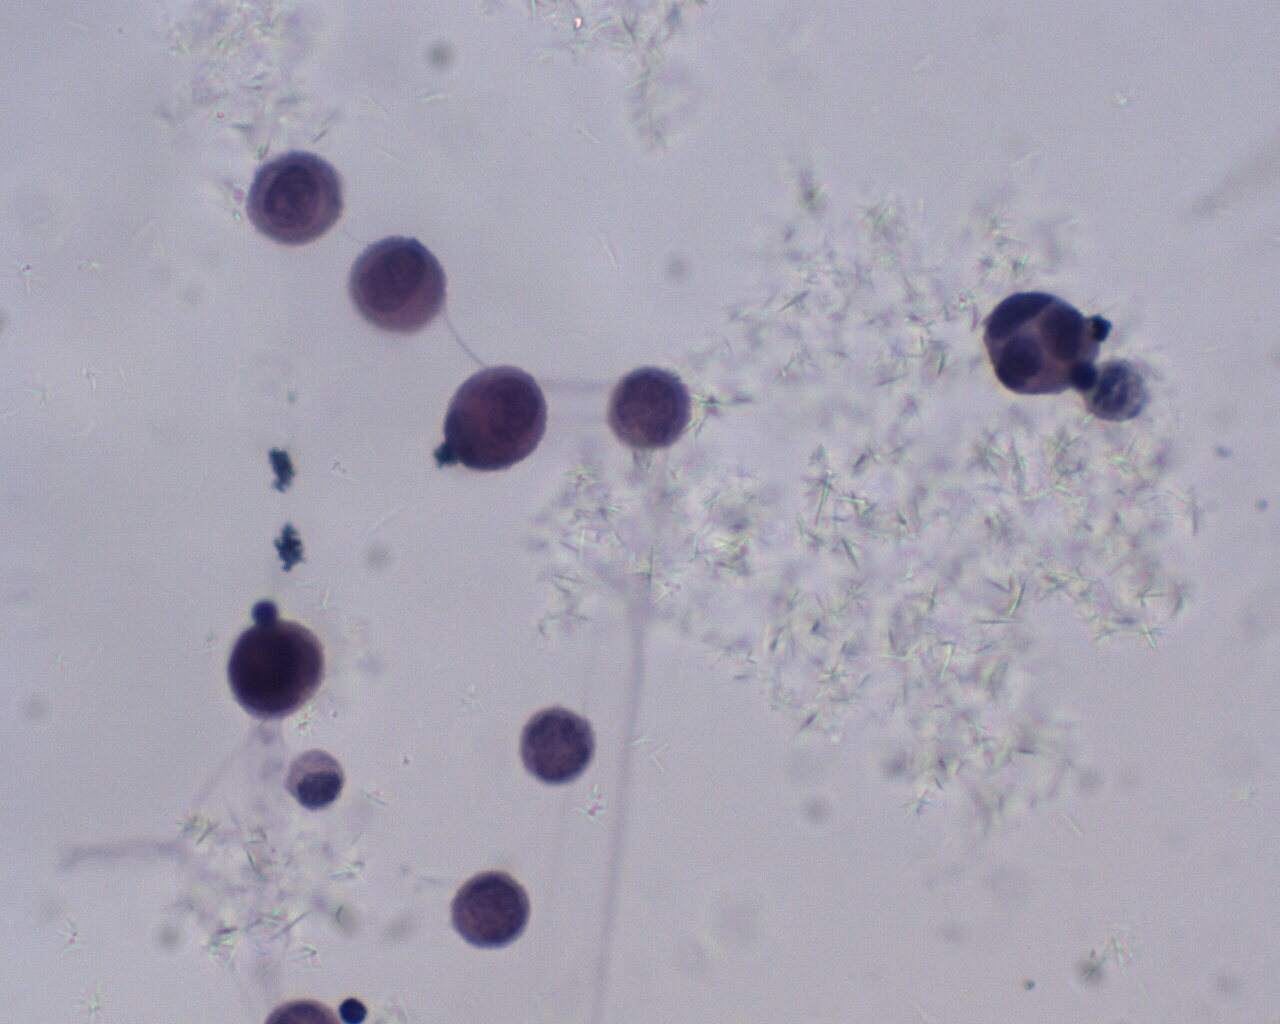ab: (446, 362, 546, 473), (346, 236, 446, 332), (248, 149, 346, 247), (228, 620, 324, 717), (449, 866, 531, 953), (607, 365, 688, 449), (515, 705, 596, 783)
meso: (283, 750, 345, 809)
